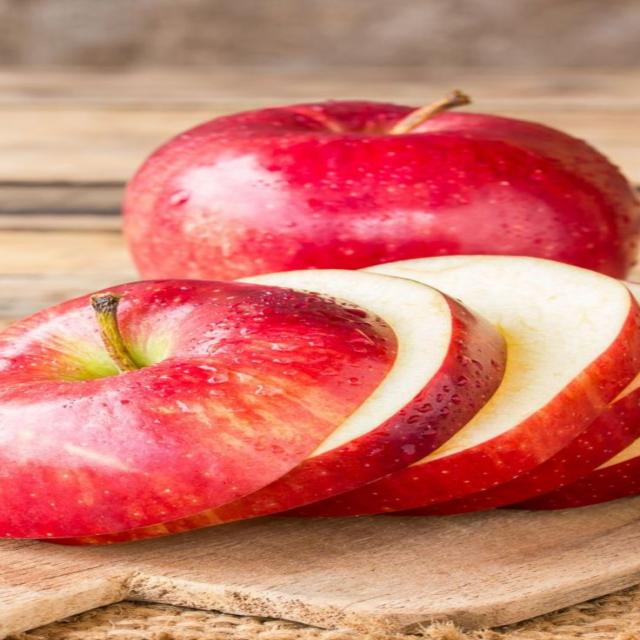apple: (59, 270, 506, 544), (0, 281, 396, 539), (125, 94, 639, 279), (289, 256, 639, 516), (399, 375, 639, 515), (511, 440, 639, 510)
